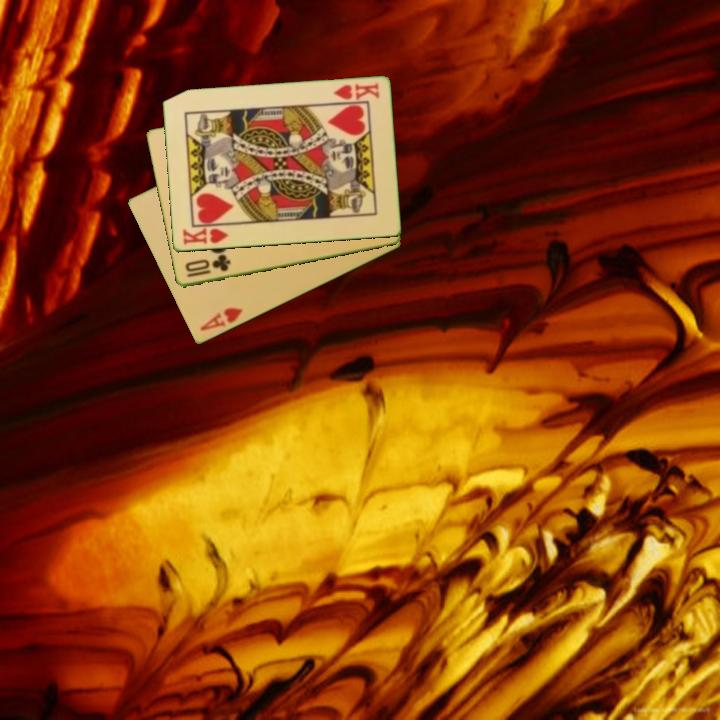10c: (181, 252, 233, 280)
Ah: (197, 304, 245, 334)
Kh: (179, 222, 233, 248), (329, 80, 382, 104)
